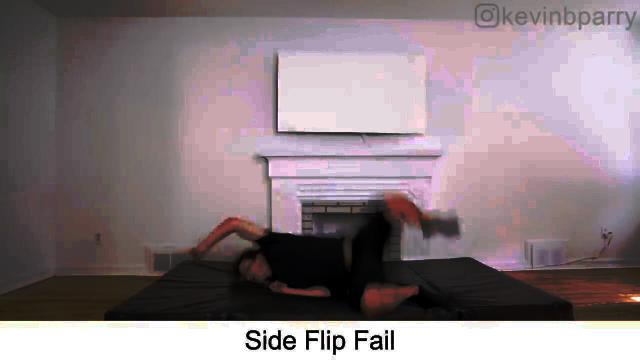jatuh: (182, 184, 458, 318)
